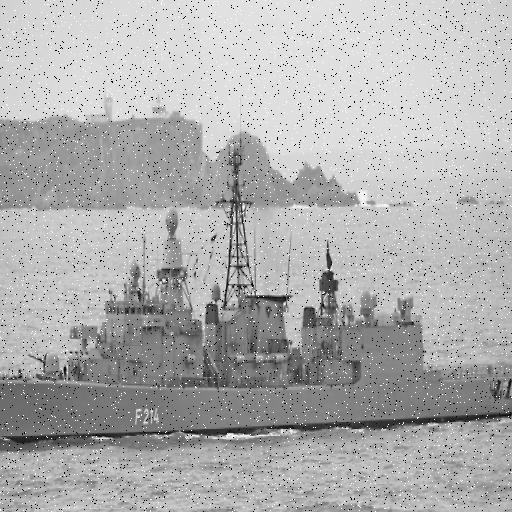Fragata: (1, 136, 512, 455)
